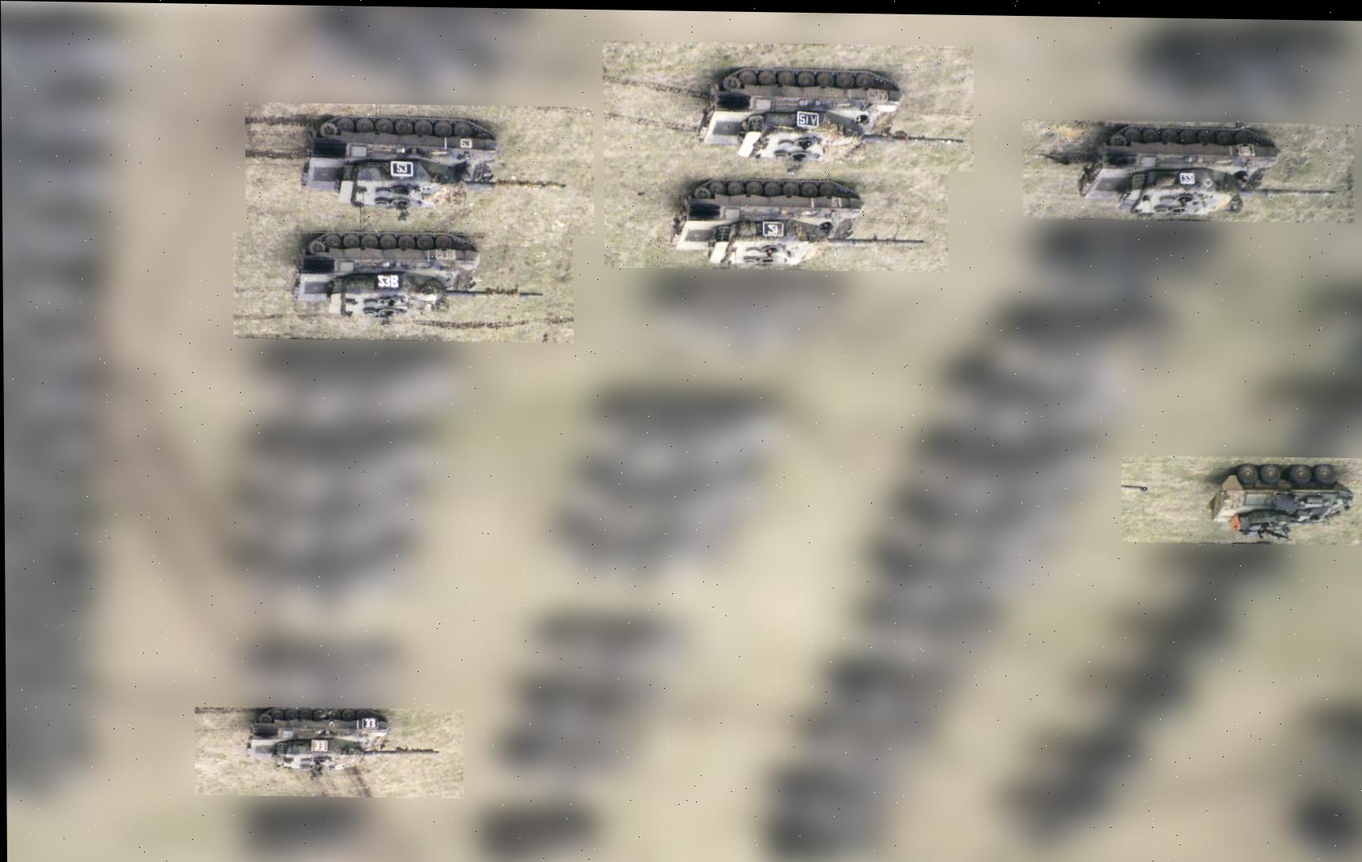armored_car: (1075, 126, 1341, 219)
tank: (302, 115, 568, 227), (695, 66, 965, 165), (289, 229, 547, 330), (670, 177, 928, 270), (245, 707, 442, 785), (1205, 462, 1356, 535)
